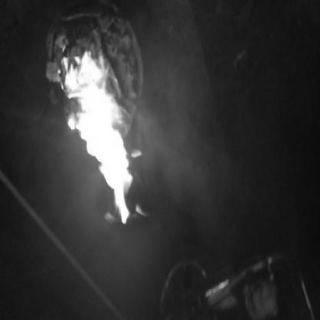Fire: (53, 49, 145, 232)
